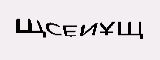А: (78, 12, 100, 36)
З: (111, 18, 122, 41)
С: (54, 7, 75, 37), (36, 5, 50, 36), (101, 15, 112, 41)
